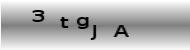3: (30, 9, 45, 23)
A: (112, 24, 130, 38)
J: (89, 24, 96, 41)
g: (75, 16, 89, 29)
t: (58, 16, 70, 29)
